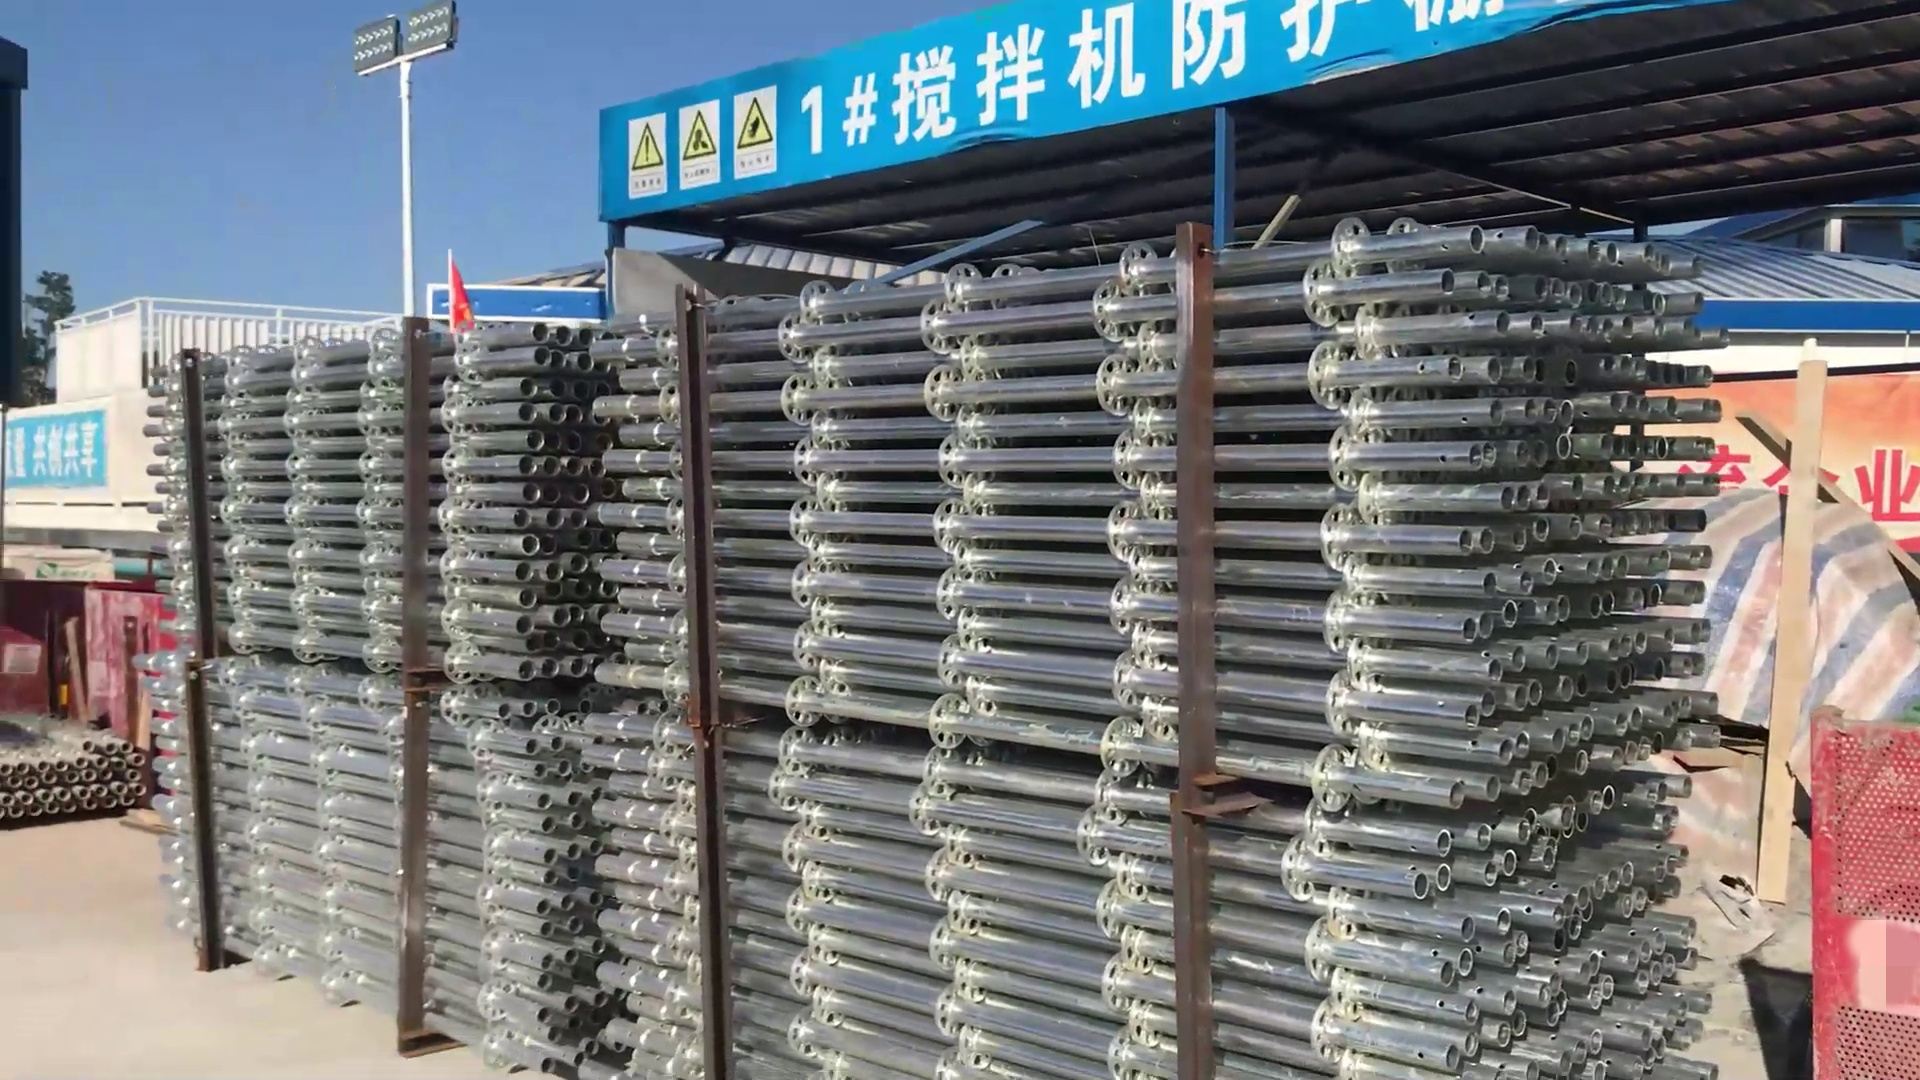fence: (1797, 713, 1920, 1080)
scaffold: (589, 220, 1724, 1080), (169, 309, 600, 1060), (8, 733, 146, 839)
slogan: (612, 94, 791, 199), (1, 418, 108, 484)
